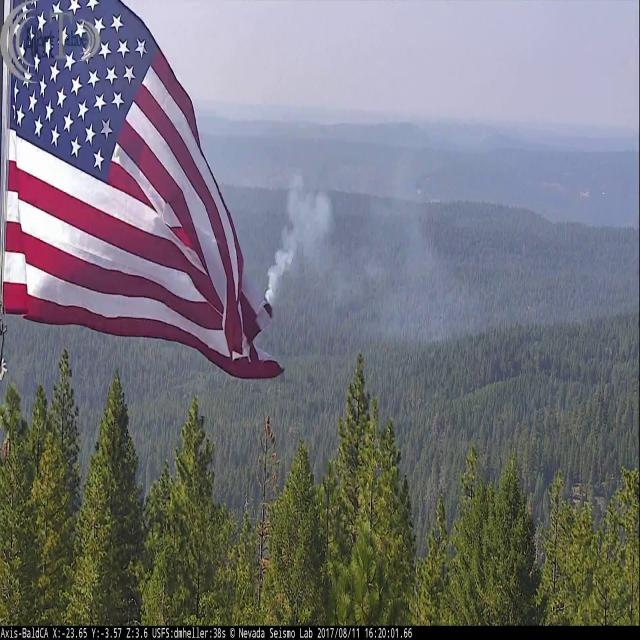smoke: (334, 157, 640, 335), (266, 172, 336, 306)
